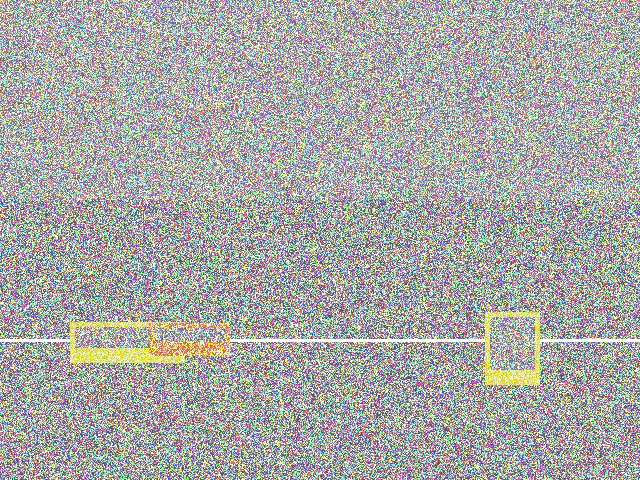truck: (148, 266, 319, 401), (28, 143, 168, 273)
